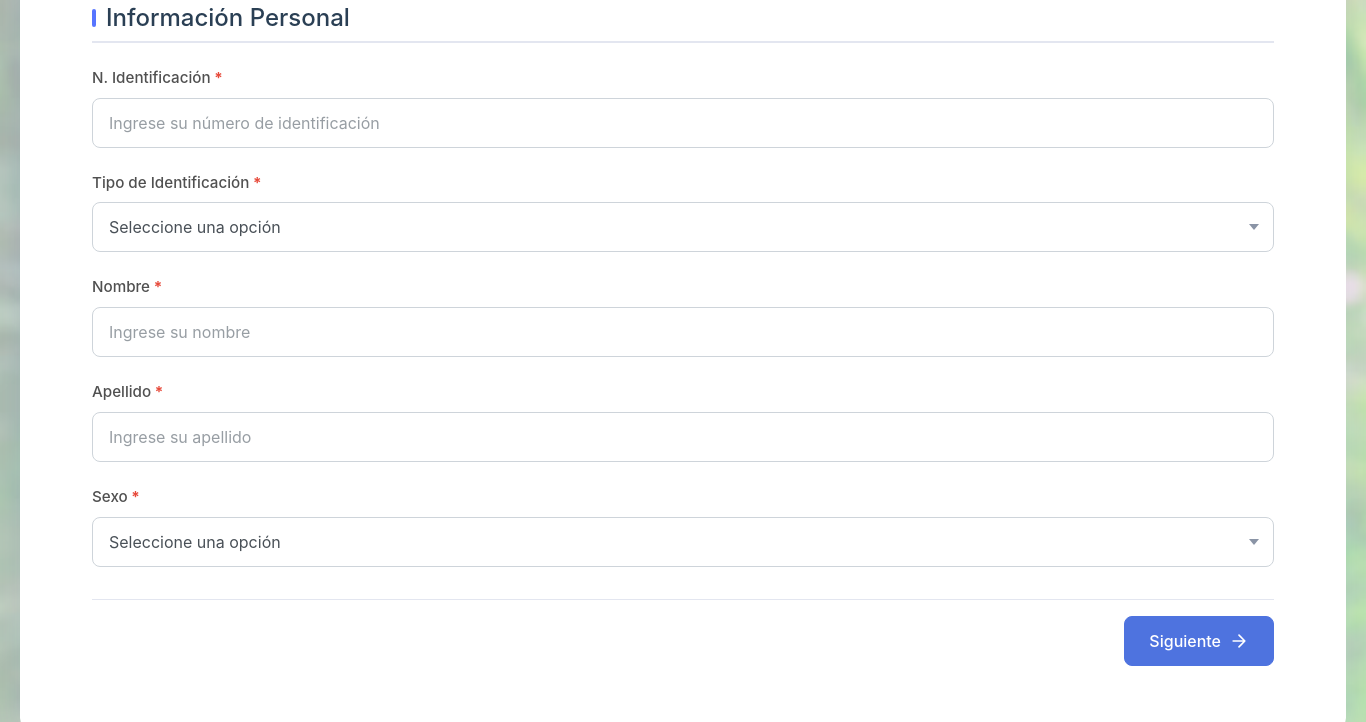
Test: RegisterCliForm › muestra errores si se ingresan datos inválidos en paso 1
(page scrolled)
Click en "Siguiente" sin ingresar datos
Click the button "Siguiente" at (1199, 641), box [1124,616,1274,666]
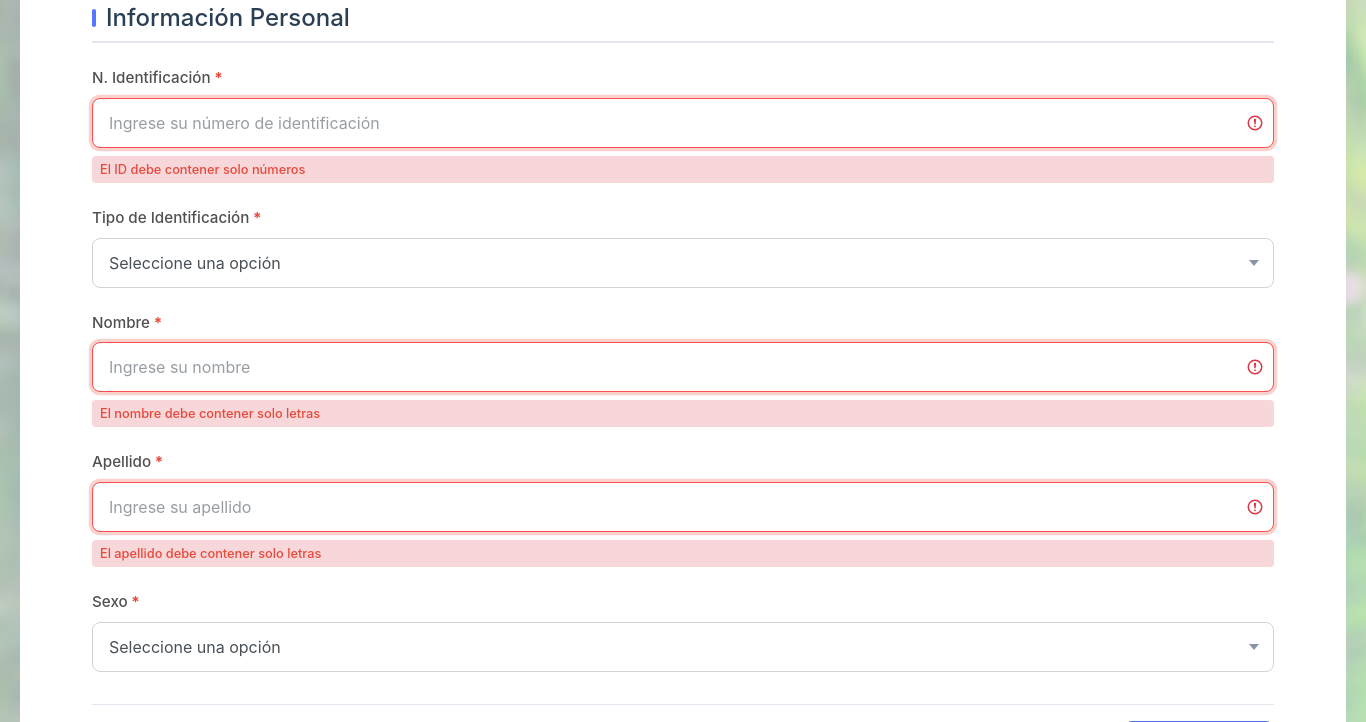
Expected: the text "El ID debe contener solo números" is shown, [92,156,1274,183]
Expected: the text "El nombre debe contener solo letras" is shown, [92,400,1274,428]
Expected: the text "El apellido debe contener solo letras" is shown, [92,540,1274,568]
